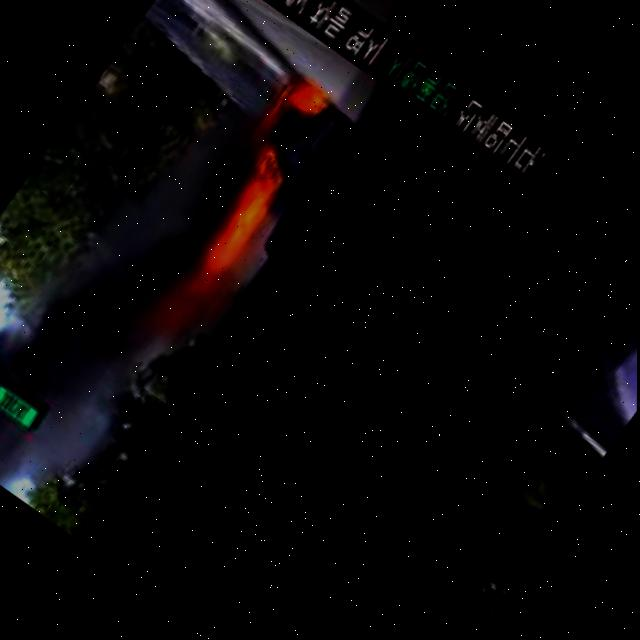Fire: (205, 146, 304, 256), (279, 78, 339, 136)
Smoke: (0, 172, 251, 458)
